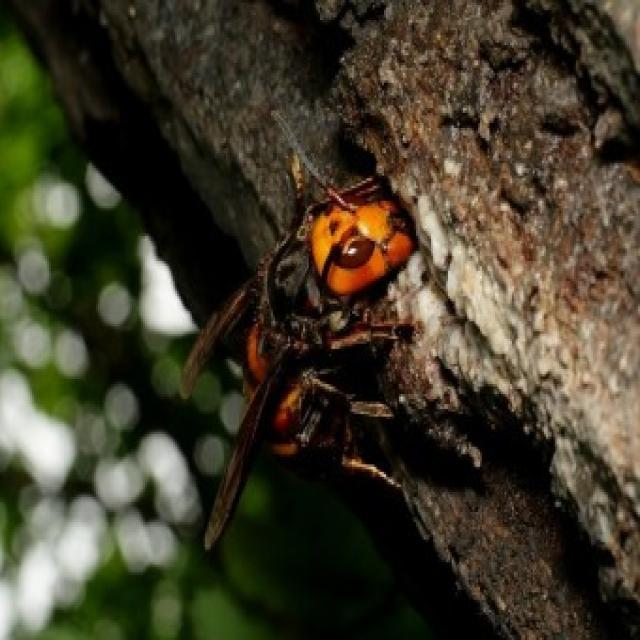Wasp: (200, 156, 419, 540)
